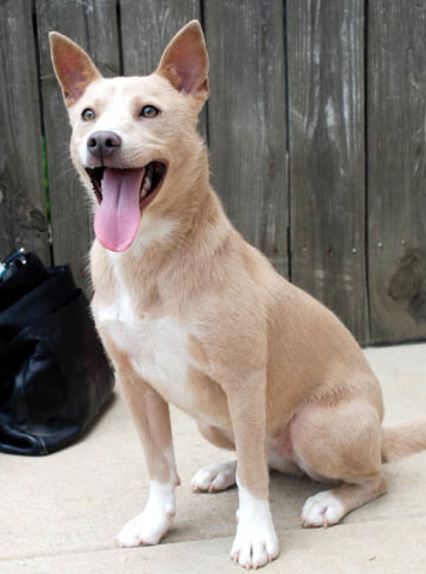dog: (39, 26, 426, 567)
